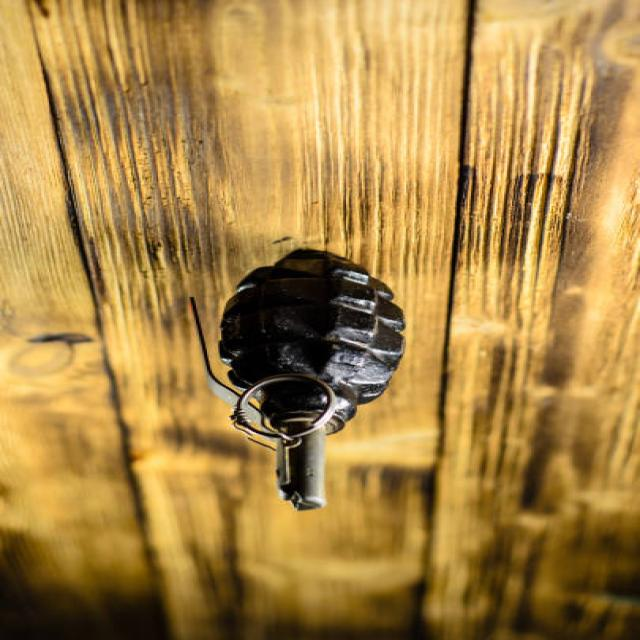grenade: (185, 252, 419, 517)
